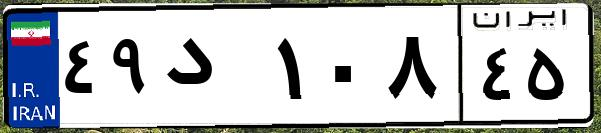0: (330, 28, 385, 110)
1: (270, 28, 330, 110)
4: (57, 26, 110, 100), (475, 38, 525, 113)
5: (525, 38, 570, 115)
8: (385, 28, 445, 110)
9: (110, 28, 158, 98)
د: (158, 20, 270, 120)
